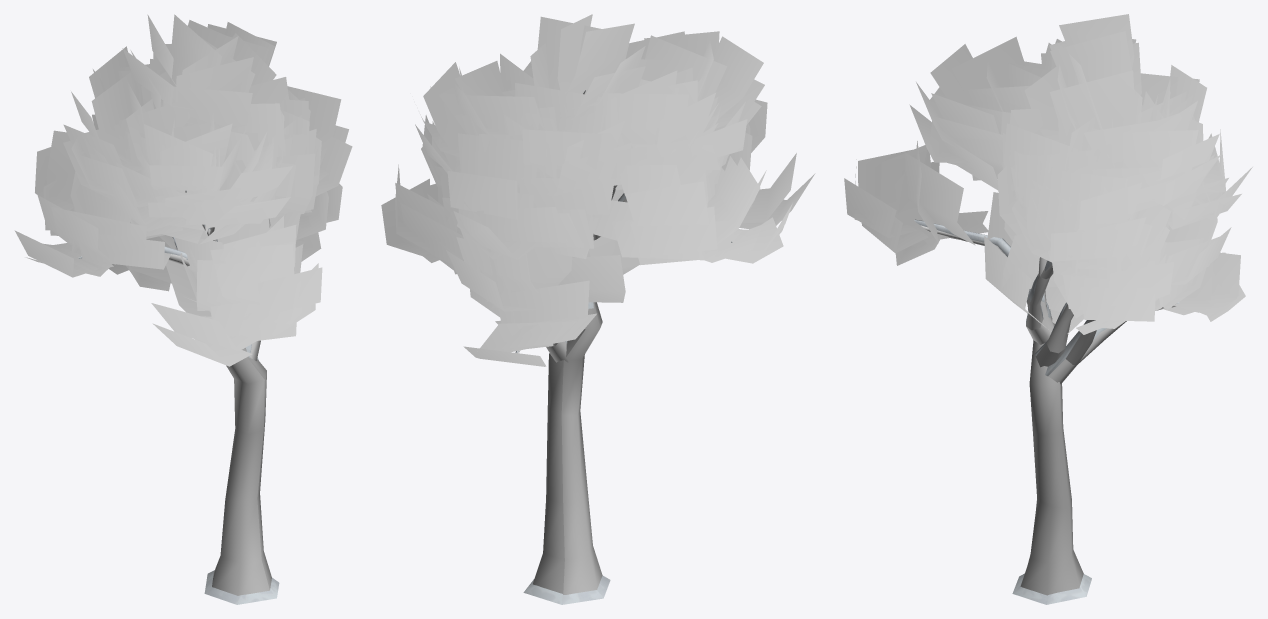
The model's file is Tree_Medium_7_Tall_Snow.fbx.
The picture shows the model from 3 angles, left to right: view 1: azimuth 30°, elevation 25°; view 2: azimuth 150°, elevation 25°; view 3: azimuth 270°, elevation 25°; orthographic projection. The views are drawn at different scales.
Visible parts, largest first — view 1: Tree_Medium_7_Snow_LOD0, Tree_Medium_7_Snow_Colider; view 2: Tree_Medium_7_Snow_LOD0, Tree_Medium_7_Snow_Colider; view 3: Tree_Medium_7_Snow_LOD0, Tree_Medium_7_Snow_Colider.
Part boxes in pixels (<box>): Tree_Medium_7_Snow_LOD0: <box>14,14,352,604</box>; Tree_Medium_7_Snow_Colider: <box>242,348,271,589</box>; Tree_Medium_7_Snow_LOD0: <box>381,14,815,604</box>; Tree_Medium_7_Snow_Colider: <box>533,329,585,594</box>; Tree_Medium_7_Snow_LOD0: <box>844,14,1252,604</box>; Tree_Medium_7_Snow_Colider: <box>1020,340,1083,595</box>.
Size of what is drawn, in the model's own units: 1682 by 2623 by 1777.
